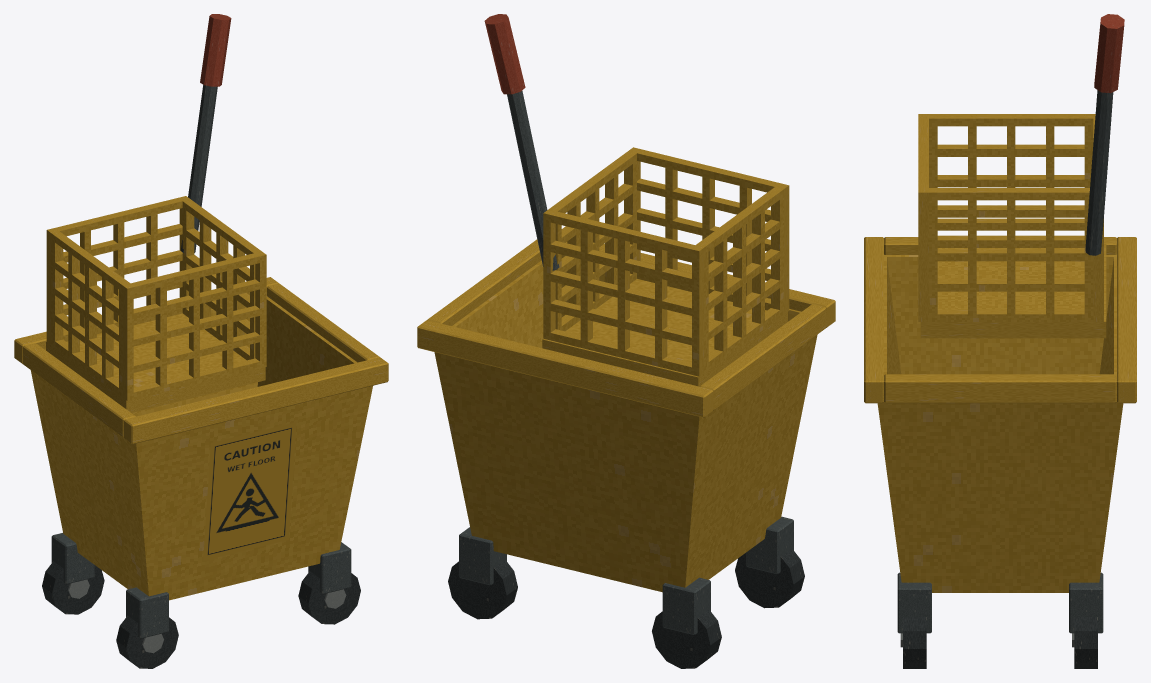
The model's file is mop_wringer_bucket.glb.
3 views of the same model, side by side, from view 1: azimuth 30°, elevation 25°; view 2: azimuth 150°, elevation 25°; view 3: azimuth 270°, elevation 25° (orthographic). The views are drawn at different scales.
Visible parts, largest first — view 1: mop_wringer_bucket; view 2: mop_wringer_bucket; view 3: mop_wringer_bucket.
Boxes of the visible parts, x1,y1,x2,y2 form: mop_wringer_bucket: [14, 14, 388, 668]; mop_wringer_bucket: [417, 14, 835, 668]; mop_wringer_bucket: [864, 14, 1136, 668].
Bounding box in the file's own units: 0.48 × 0.9789 × 0.382.
Materials: 6 (6 with a texture image).
